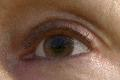eye: (44, 35, 73, 58)
